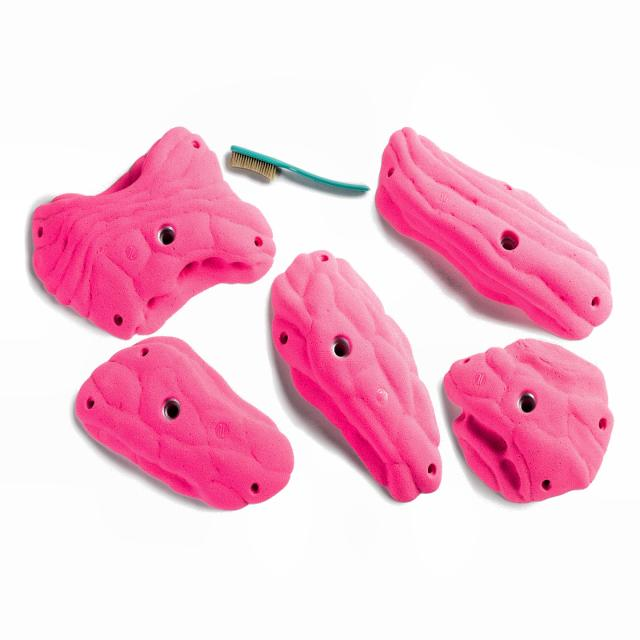Hold: (29, 130, 279, 342), (375, 127, 618, 345), (278, 246, 450, 504), (81, 335, 294, 505), (444, 346, 611, 494)
